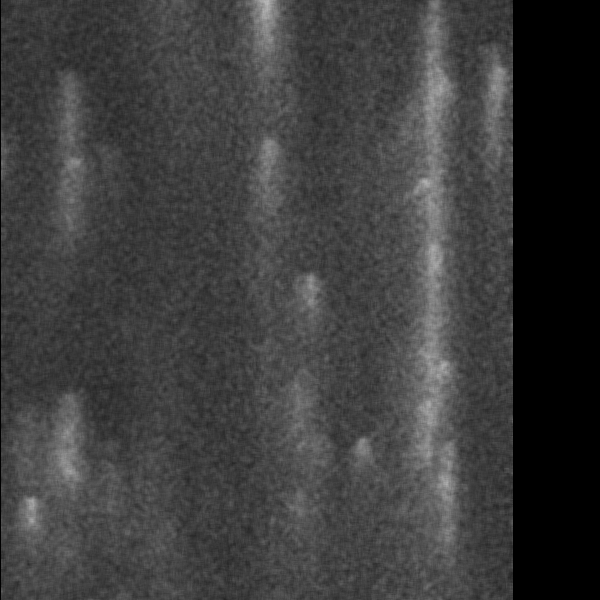spark: (399, 39, 460, 138), (480, 36, 506, 260), (406, 459, 471, 530), (97, 439, 127, 572), (270, 480, 331, 535), (19, 462, 44, 578), (408, 387, 451, 443), (294, 269, 321, 355), (351, 429, 373, 531), (97, 488, 122, 570), (52, 152, 91, 188), (53, 545, 76, 560)
